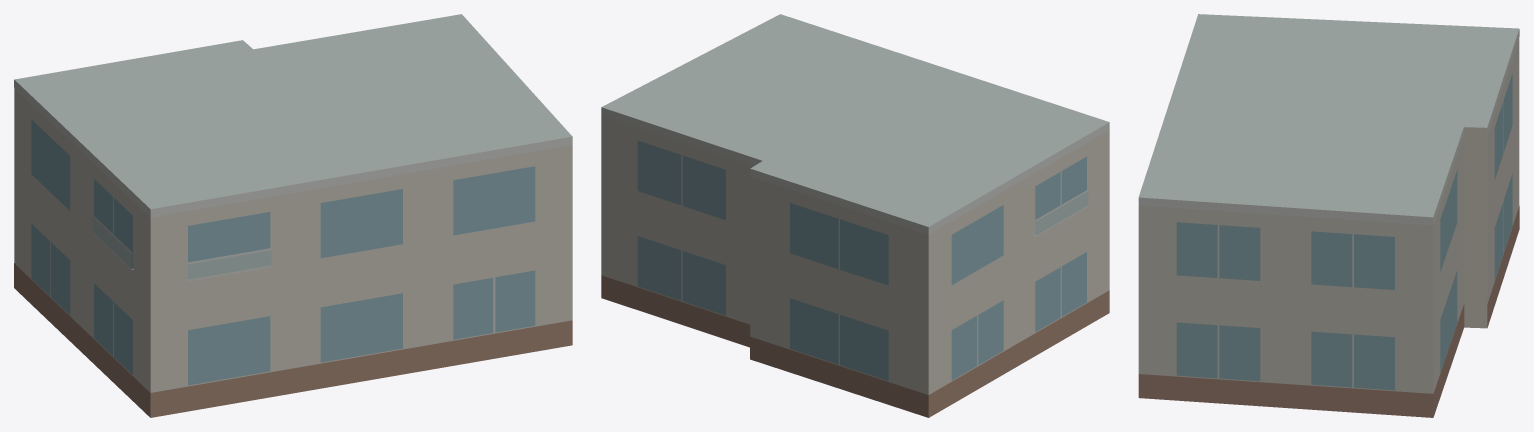
Rendered from survey-upis-32679477.glb.
3 views of the same model, side by side, from view 1: azimuth 30°, elevation 25°; view 2: azimuth 150°, elevation 25°; view 3: azimuth 270°, elevation 25° (orthographic). The views are drawn at different scales.
Visible parts, largest first — view 1: survey-upis-32679477.tmp; view 2: survey-upis-32679477.tmp; view 3: survey-upis-32679477.tmp.
Boxes of the visible parts, x1=… form: survey-upis-32679477.tmp: x1=14, y1=14, x2=572, y2=417; survey-upis-32679477.tmp: x1=601, y1=14, x2=1109, y2=417; survey-upis-32679477.tmp: x1=1138, y1=14, x2=1519, y2=417.
Bounding box in the file's own units: 13.28 × 6.1 × 10.52.
